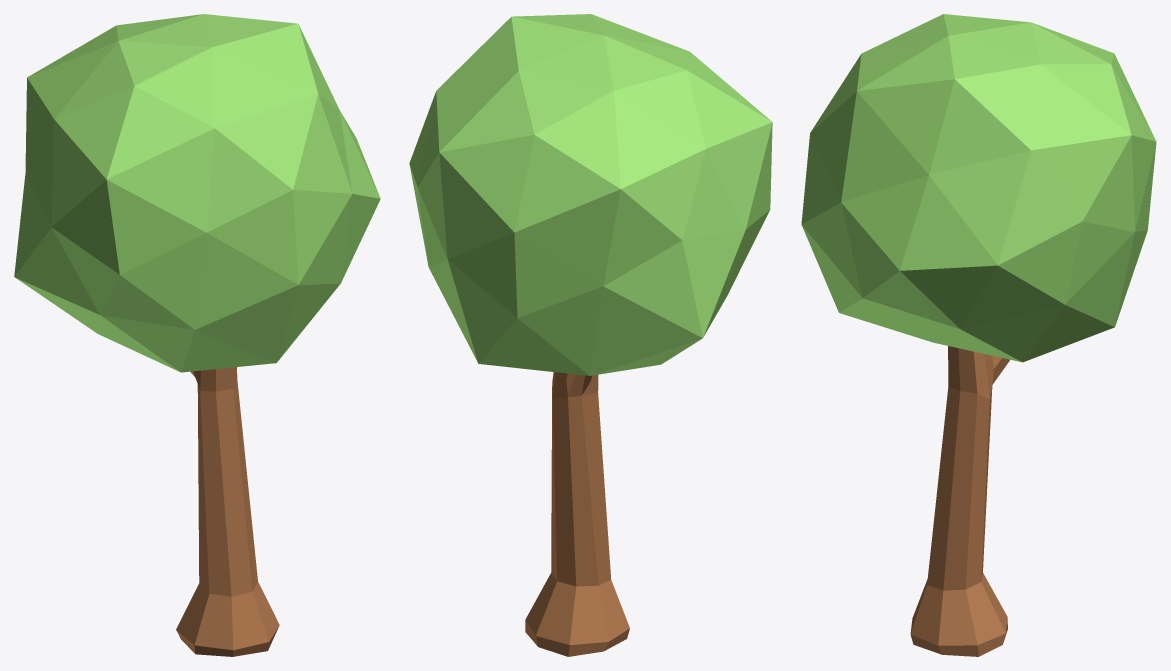
File: Tree7.fbx
The picture shows the model from 3 angles, left to right: view 1: azimuth 30°, elevation 25°; view 2: azimuth 150°, elevation 25°; view 3: azimuth 270°, elevation 25°; orthographic projection.
Visible parts, largest first — view 1: Tree7; view 2: Tree7; view 3: Tree7.
Boxes of the visible parts, box(x1,y1,x2,y2) form: Tree7: box(14, 14, 380, 656); Tree7: box(409, 14, 772, 656); Tree7: box(801, 14, 1156, 656).
Size of the model in its own units: 305 by 545 by 297.
